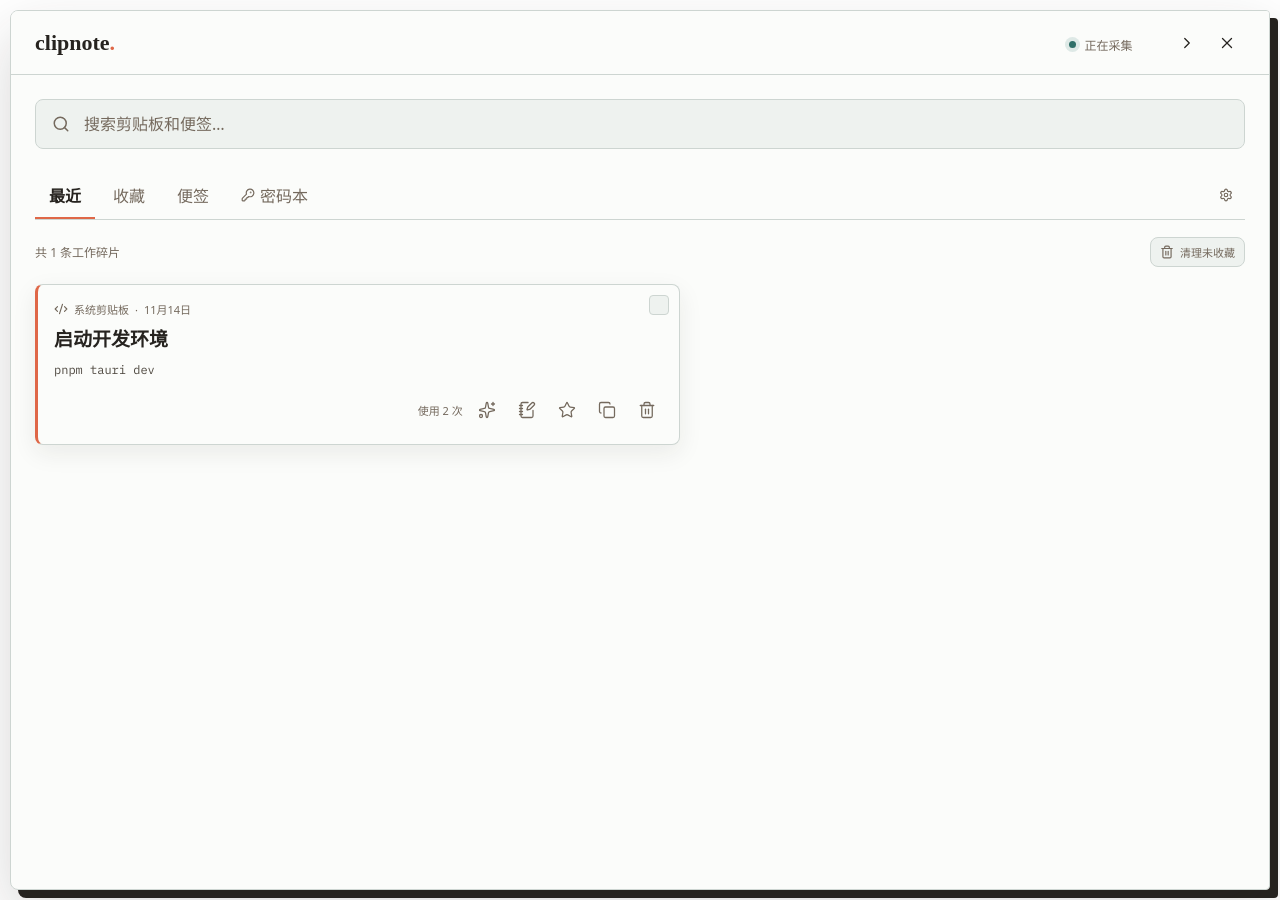
App › keeps navigation available after entering notes
expect the heading "启动开发环境" is shown: met, box [54, 329, 168, 350]
What coordinates should you click on to do the following:
click the button "便签"
I would click on:
 (193, 196)
Its box is [163, 173, 223, 219].
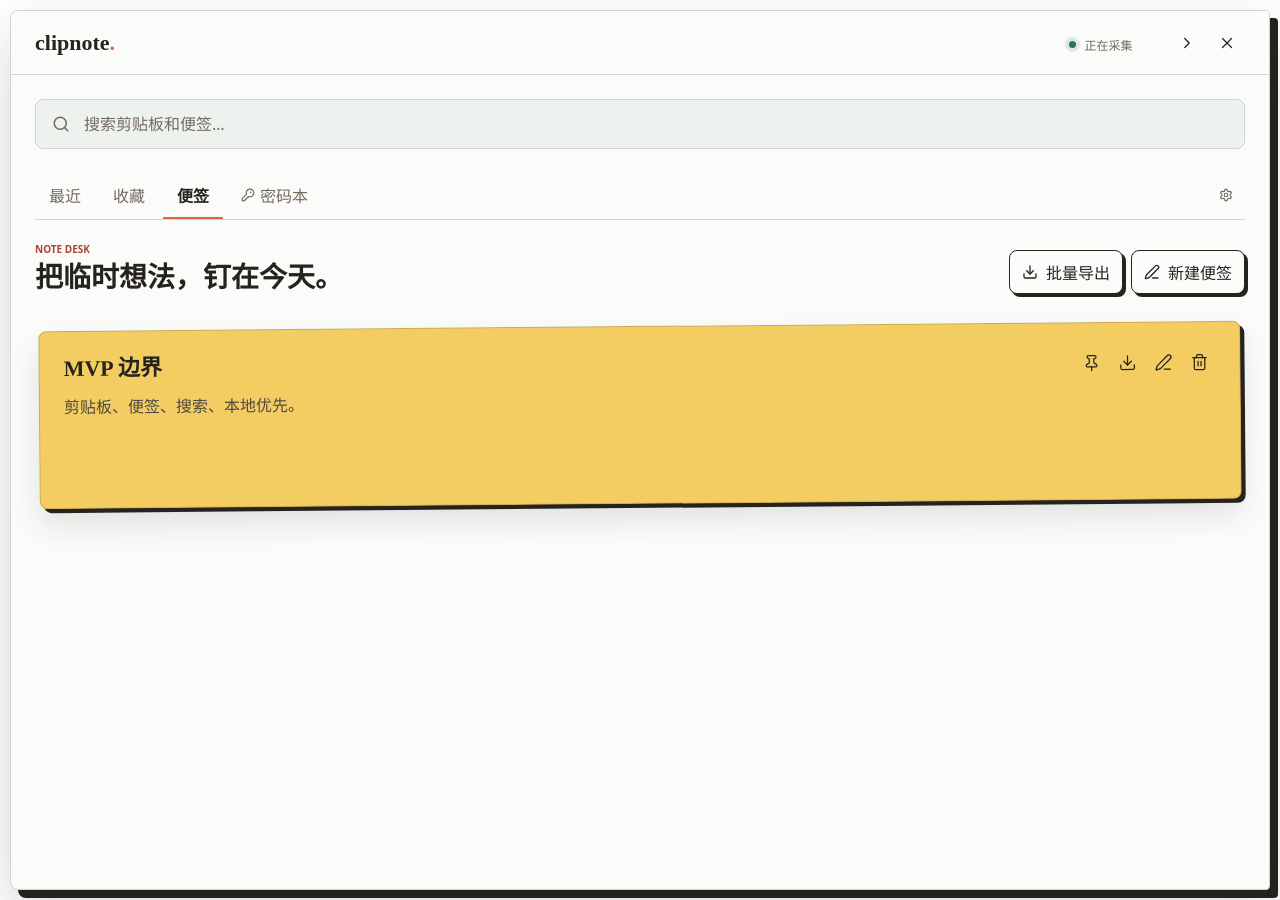
expect the heading "MVP 边界" is shown: met, box [64, 355, 162, 381]
What coordinates should you click on to do the following:
click the button "最近"
I would click on:
 (65, 196)
Its box is [35, 173, 95, 219].
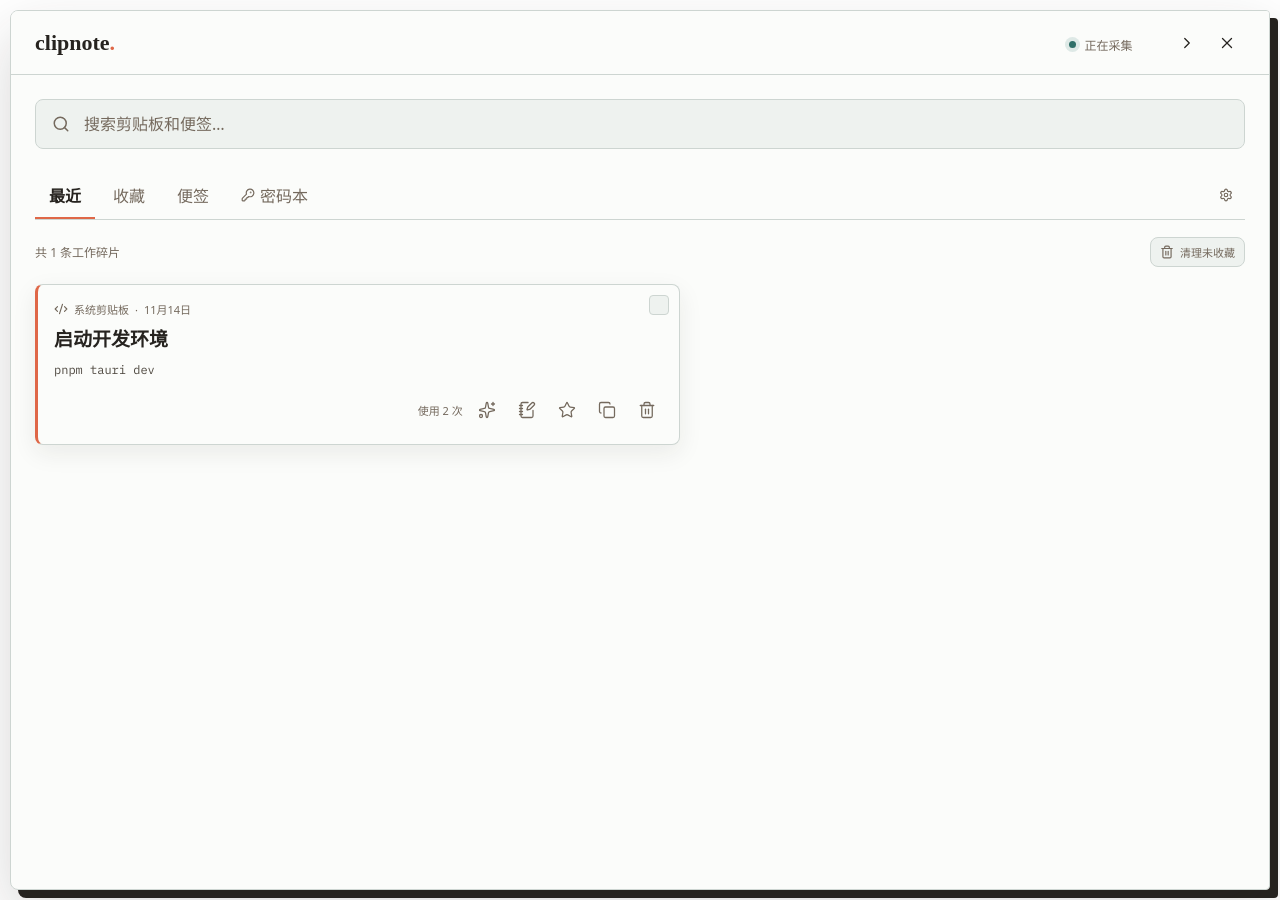
expect the heading "启动开发环境" is shown: met, box [54, 329, 168, 350]
